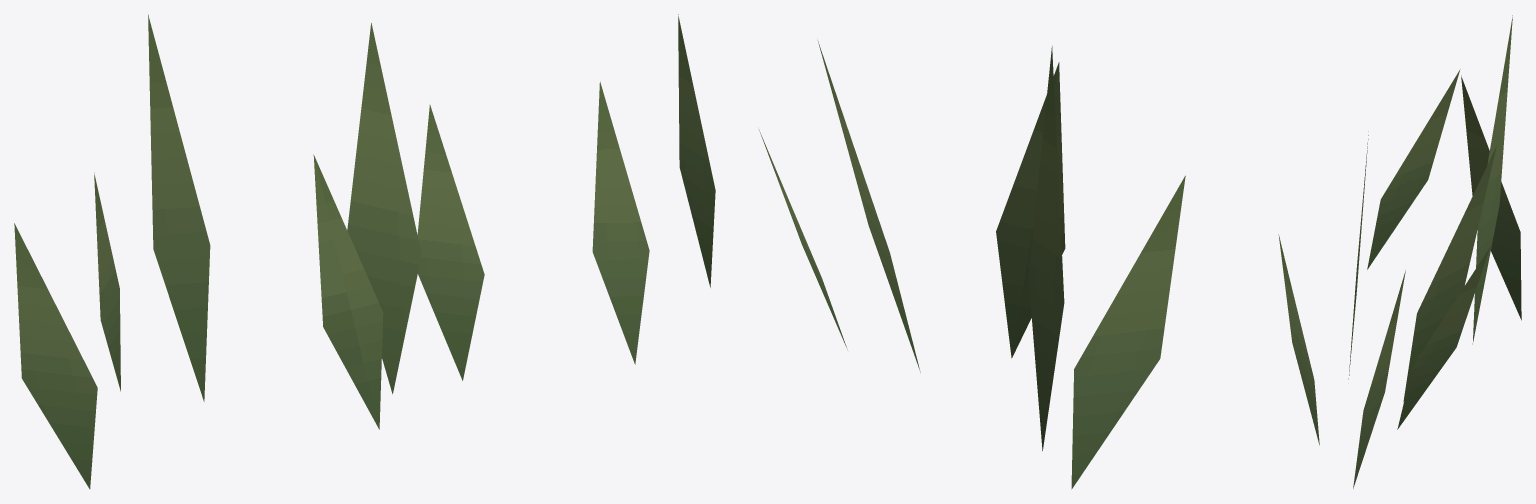
Rendered from plants_me_main_grass12.gltf.
The picture shows the model from 3 angles, left to right: view 1: azimuth 30°, elevation 25°; view 2: azimuth 150°, elevation 25°; view 3: azimuth 270°, elevation 25°; orthographic projection. The views are drawn at different scales.
Visible parts, largest first — view 1: um_plants_me_main_grass12_model_plants_me_main_grass12_model; view 2: um_plants_me_main_grass12_model_plants_me_main_grass12_model; view 3: um_plants_me_main_grass12_model_plants_me_main_grass12_model.
Boxes of the visible parts, left/top/right/bottom form: um_plants_me_main_grass12_model_plants_me_main_grass12_model: left=14, top=14, right=649, bottom=489; um_plants_me_main_grass12_model_plants_me_main_grass12_model: left=678, top=14, right=1319, bottom=489; um_plants_me_main_grass12_model_plants_me_main_grass12_model: left=1348, top=15, right=1521, bottom=488.
Bounding box in the file's own units: 0.5503 × 0.3383 × 0.1672.
1 material, 1 textured.
